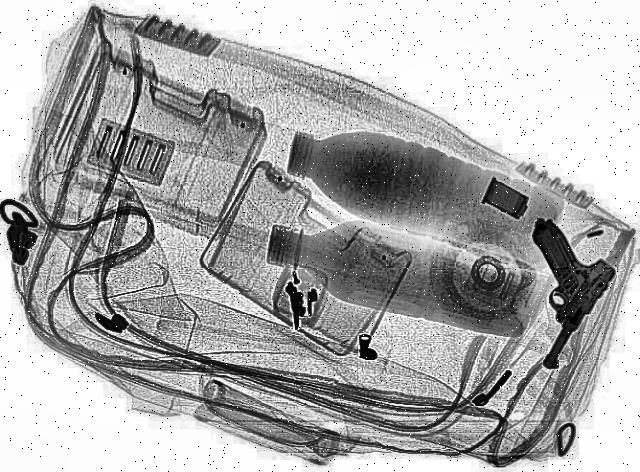Gun: (498, 214, 632, 376)
